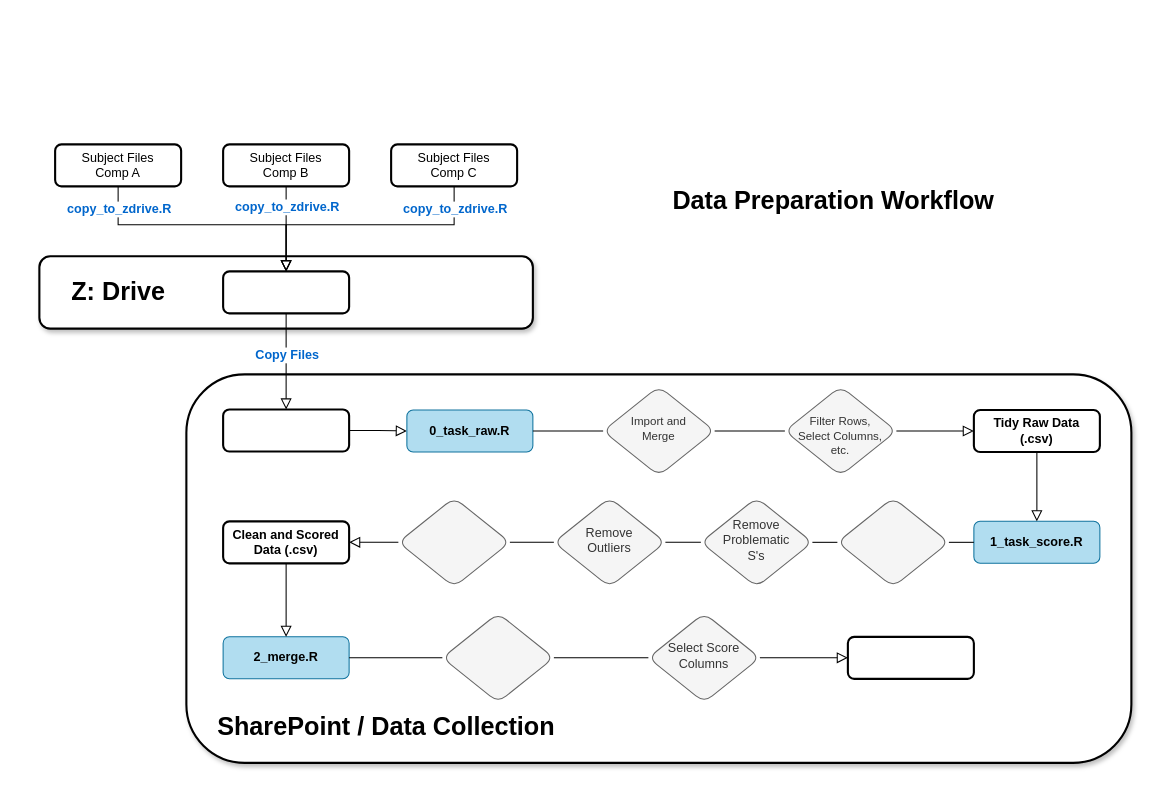
Some shapes in this 1170 by 802 pixel diagram are drawn without their labels. The shapes that lost their labels are listed below. From the top down, each one's centre as x and y in pixels, then its label:
pixel 286 292: Subject Files Organized by Task
pixel 286 430: Messy Raw Data (.txt)
pixel 453 542: Calculate Reliability
pixel 892 542: Calculate Scores
pixel 497 657: Merge Files
pixel 910 657: Merged Task Scores (.csv)
